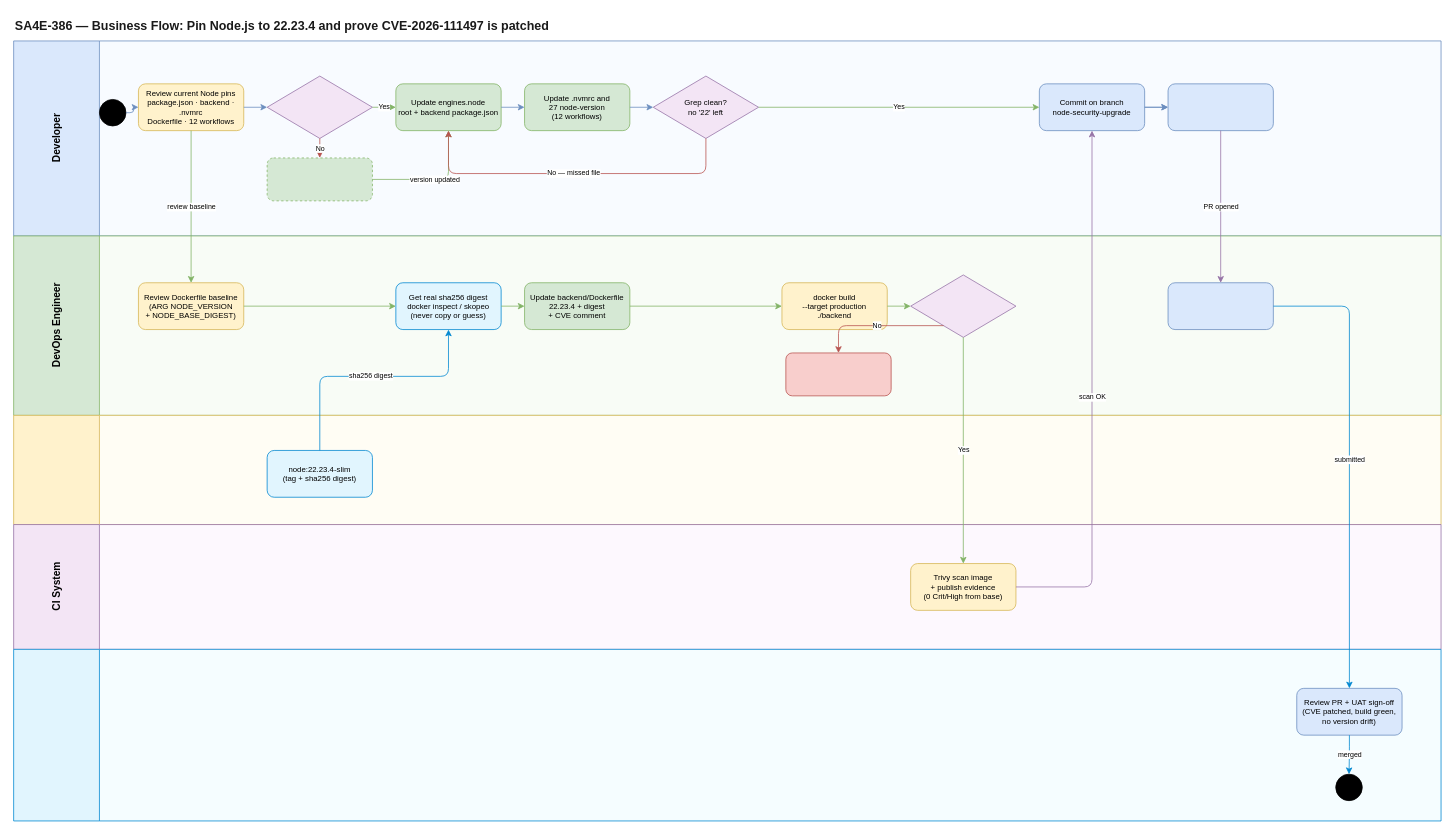
Image size: 1455x835. Some labels were removed from this diagram. Each missing label, with the box of its shape:
Attach evidence (grep + build + scan) to Jira SA4E-386: (1167, 282, 1273, 330)
Build OK? (onnxruntime-node links): (910, 274, 1016, 337)
Container Registry: (13, 415, 1441, 525)
Latest 22.x patch still 22.23.4?: (266, 75, 372, 138)
Open Pull Request CVE rationale + files + verification evidence: (1167, 83, 1273, 131)
Reviewer / UAT: (13, 649, 1441, 821)
Stop — report to SM (no commit while verification fails): (785, 352, 891, 396)
Update TARGET_NODE + all figures: (266, 157, 372, 201)
